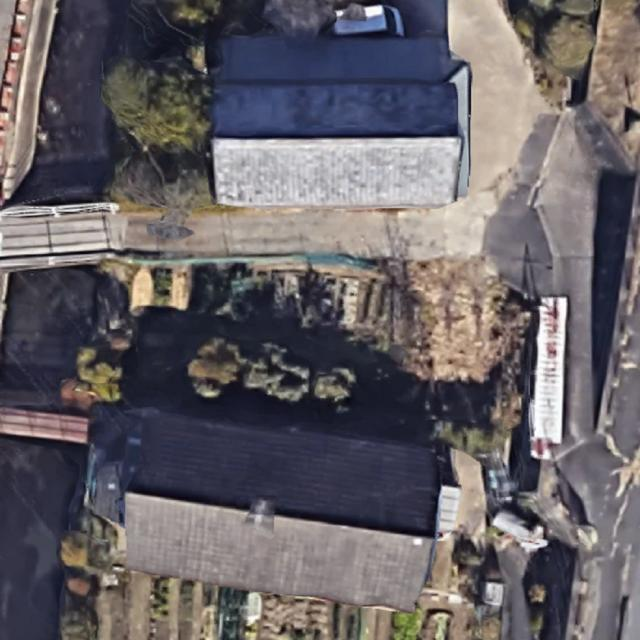Batiment: (89, 406, 441, 611), (212, 35, 470, 208)
